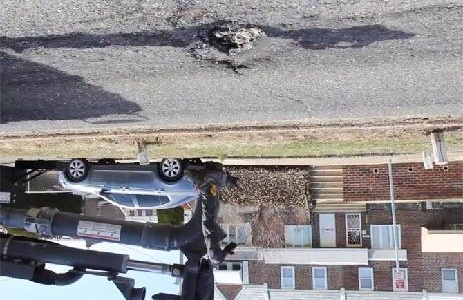pothole: (184, 16, 276, 73)
